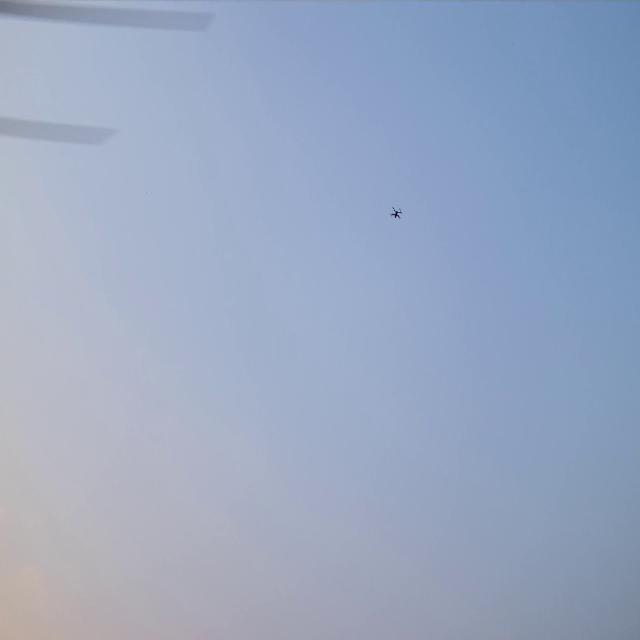UAV: (391, 210, 401, 218)
